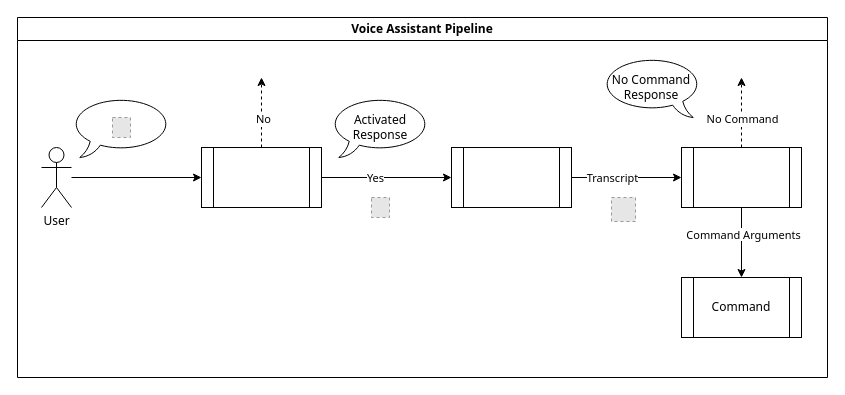
The diagram is 845 pixels wide and 395 high, and some of its shapes have lost their labels. Grey dashed boxes stand in for pictures. The shapes that lost their labels are listed below. From the top down, each one's centre as x and y in pixels, then its label:
the point at 261,177: Wakeword
the point at 511,177: S2T
the point at 741,177: Command Manager
